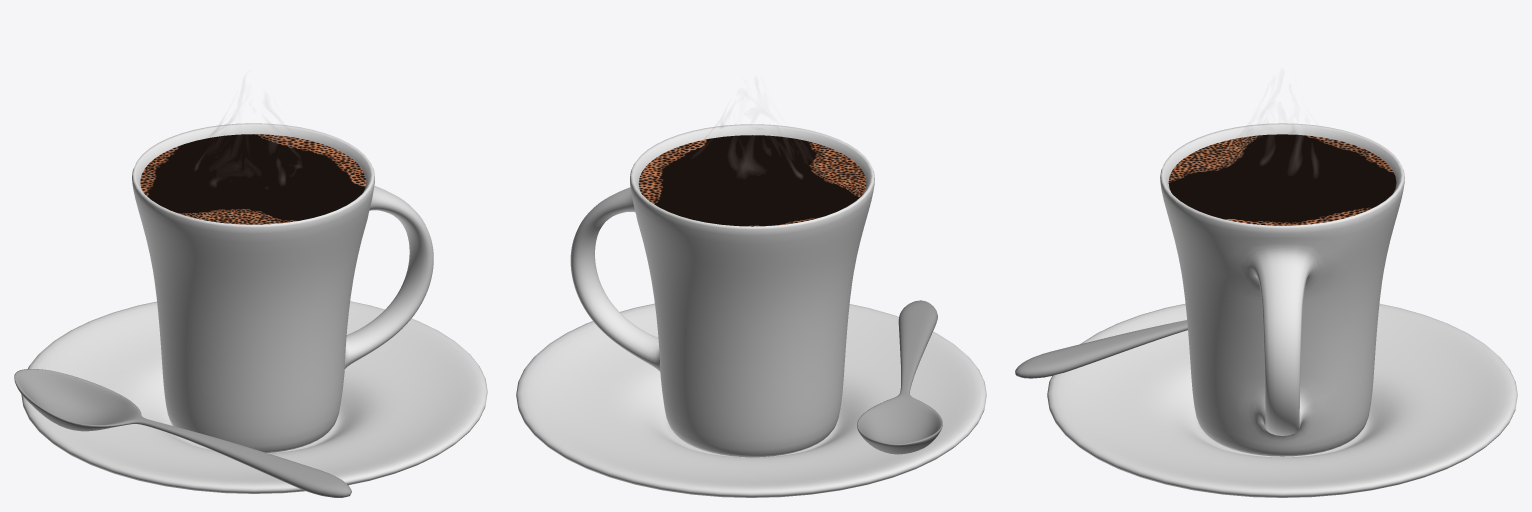
Rendered from cup_of_coffee_gltf.glb.
3 views of the same model, side by side, from view 1: azimuth 30°, elevation 25°; view 2: azimuth 150°, elevation 25°; view 3: azimuth 270°, elevation 25° (orthographic).
Parts seen in each view (by area): view 1: Cup, Plate, Coffee, Teaspoon; view 2: Cup, Plate, Coffee, Teaspoon; view 3: Cup, Plate, Coffee, Teaspoon.
Part boxes in pixels (x1,y1,x2,y2): Cup: [132, 123, 433, 452]; Plate: [21, 301, 487, 493]; Coffee: [140, 134, 366, 224]; Teaspoon: [14, 369, 351, 497]; Cup: [570, 124, 874, 457]; Plate: [516, 303, 986, 497]; Coffee: [638, 135, 866, 226]; Teaspoon: [857, 300, 942, 454]; Cup: [1160, 123, 1404, 456]; Plate: [1047, 303, 1517, 497]; Coffee: [1168, 134, 1396, 225]; Teaspoon: [1015, 320, 1187, 378].
Size of the model in its own units: 2.07 by 2.08 by 2.21.
5 materials, 5 textured.
